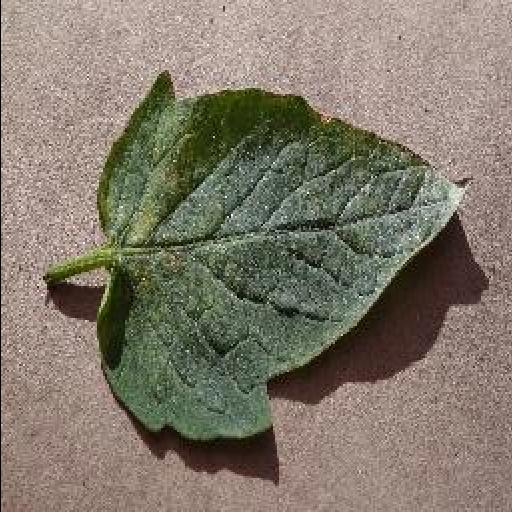disease_tomato: (92, 71, 470, 441)
